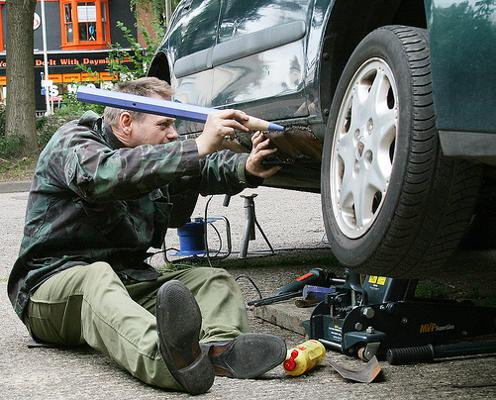person: (8, 76, 288, 395)
